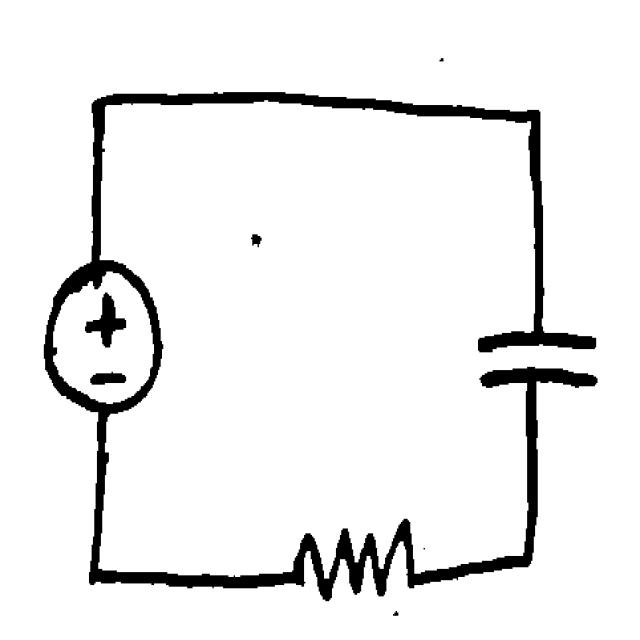capacitor: (460, 314, 611, 405)
dc: (30, 246, 178, 418)
resistor: (282, 504, 431, 614)
